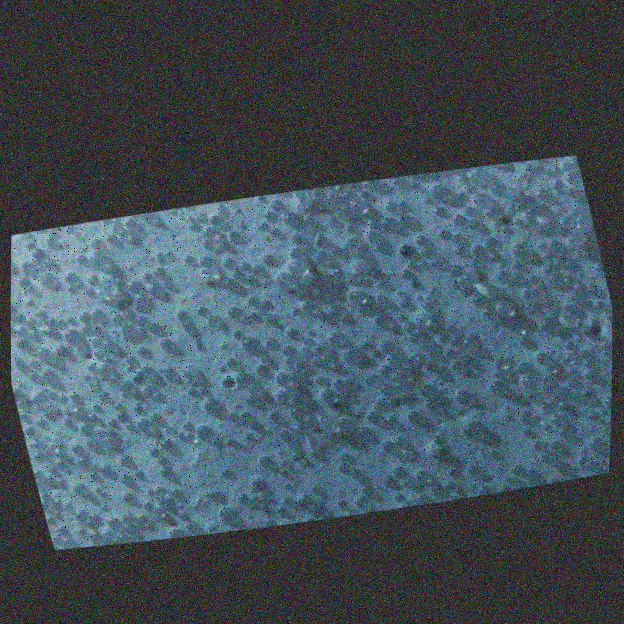GrassBeadSeg: (63, 173, 466, 532), (87, 162, 570, 446), (77, 181, 562, 454), (180, 189, 570, 521), (122, 192, 511, 522), (27, 218, 477, 503), (59, 238, 559, 492), (125, 214, 572, 496), (109, 219, 502, 527), (62, 212, 535, 466), (114, 161, 566, 425), (85, 191, 487, 466), (75, 271, 504, 519), (124, 217, 554, 463), (80, 244, 464, 519), (47, 217, 521, 432), (199, 179, 559, 448), (98, 189, 547, 399), (64, 228, 449, 472), (72, 251, 542, 450), (94, 272, 548, 478), (81, 214, 410, 493), (57, 188, 322, 532), (50, 288, 528, 473), (125, 172, 578, 363), (91, 238, 558, 422), (143, 206, 494, 430), (36, 308, 598, 446), (47, 251, 555, 403), (265, 226, 611, 444), (47, 197, 420, 397), (121, 245, 433, 483), (104, 183, 447, 399), (220, 243, 483, 519), (87, 190, 465, 371), (46, 236, 528, 372), (94, 257, 455, 438), (43, 330, 441, 493), (244, 214, 464, 504), (121, 351, 547, 500), (134, 306, 495, 477), (98, 312, 413, 506), (126, 301, 429, 502), (188, 237, 497, 429), (78, 335, 530, 466), (120, 274, 550, 409), (73, 211, 274, 491), (79, 189, 503, 321), (67, 218, 378, 396), (281, 247, 531, 466), (262, 168, 531, 371), (343, 241, 600, 450), (289, 247, 569, 435), (118, 274, 575, 389), (21, 315, 282, 513), (43, 257, 287, 467), (250, 219, 471, 441), (134, 206, 534, 326), (230, 279, 455, 492), (86, 270, 523, 378), (119, 228, 351, 430), (305, 194, 519, 408), (361, 188, 543, 437), (92, 336, 372, 494), (225, 207, 497, 368), (76, 253, 429, 369), (249, 310, 594, 428), (390, 210, 560, 448), (63, 264, 263, 466), (223, 278, 404, 501), (319, 228, 496, 456), (129, 280, 316, 492), (240, 261, 576, 376), (143, 341, 371, 508), (71, 273, 265, 464), (133, 286, 326, 477), (311, 271, 476, 491), (153, 266, 362, 437), (167, 289, 355, 476), (303, 218, 573, 348), (98, 361, 565, 436), (86, 212, 235, 445), (196, 196, 464, 323), (249, 301, 510, 431), (384, 200, 571, 376), (291, 242, 527, 378), (70, 210, 238, 400), (320, 264, 552, 399), (282, 343, 523, 472), (36, 263, 574, 319), (178, 259, 523, 343), (71, 326, 299, 451), (89, 228, 197, 478), (105, 187, 574, 243), (120, 343, 336, 463), (214, 215, 313, 475), (127, 316, 295, 464), (106, 440, 393, 526), (11, 255, 169, 411), (86, 320, 291, 439), (226, 306, 464, 402), (69, 210, 271, 323), (381, 205, 473, 449), (109, 378, 576, 426), (111, 236, 560, 285), (263, 166, 559, 240), (263, 253, 547, 330), (32, 248, 406, 306), (63, 283, 419, 343), (70, 400, 411, 462), (144, 257, 357, 354), (439, 256, 549, 443), (270, 227, 402, 378), (94, 434, 443, 491), (232, 362, 393, 484), (310, 385, 574, 458), (407, 351, 577, 462), (390, 292, 486, 484), (359, 211, 427, 481), (155, 251, 533, 299), (309, 426, 533, 505), (86, 286, 369, 348), (15, 285, 199, 378), (328, 303, 529, 388), (161, 336, 294, 463), (124, 295, 259, 420), (149, 274, 250, 439), (240, 373, 594, 420), (200, 305, 456, 369), (43, 410, 173, 535), (125, 357, 592, 391), (297, 397, 438, 507), (313, 250, 436, 370), (366, 299, 485, 421), (259, 221, 344, 390), (473, 346, 586, 473), (48, 385, 207, 473), (393, 208, 444, 476), (137, 382, 434, 428), (96, 410, 598, 437), (231, 270, 335, 397), (196, 389, 471, 437), (240, 199, 403, 279), (176, 309, 338, 388), (233, 231, 350, 337), (27, 209, 174, 293), (532, 174, 572, 479), (292, 233, 415, 330), (331, 415, 506, 479), (246, 419, 603, 449), (202, 212, 309, 311), (281, 340, 527, 383), (298, 346, 405, 444), (296, 313, 360, 476), (160, 405, 306, 476), (394, 158, 578, 214), (91, 297, 554, 319), (41, 271, 171, 348), (291, 211, 419, 288), (363, 374, 457, 476), (428, 303, 609, 355), (275, 312, 406, 383), (429, 285, 556, 358), (183, 253, 463, 285), (114, 277, 152, 510), (241, 335, 333, 431), (31, 243, 172, 305), (14, 228, 78, 362), (338, 233, 373, 471), (475, 345, 537, 478), (136, 468, 283, 522), (272, 410, 368, 492), (196, 306, 233, 518), (301, 300, 350, 459), (43, 312, 123, 409), (34, 390, 142, 461), (417, 356, 467, 504), (144, 367, 408, 395), (15, 308, 122, 377), (345, 223, 388, 394), (19, 276, 325, 300), (429, 303, 483, 437), (455, 359, 518, 473), (527, 311, 611, 396), (419, 269, 508, 348), (438, 273, 537, 341), (349, 198, 379, 422), (377, 240, 532, 282), (406, 374, 540, 422), (314, 188, 408, 256), (505, 186, 568, 287), (137, 288, 196, 394), (126, 321, 157, 521), (271, 182, 504, 208), (547, 373, 608, 472), (511, 340, 611, 400), (471, 168, 545, 248), (236, 370, 504, 392), (91, 403, 308, 430), (272, 207, 426, 244), (194, 394, 246, 502), (149, 214, 219, 294), (258, 194, 358, 250), (539, 161, 581, 293), (299, 206, 441, 243), (229, 232, 334, 282), (457, 342, 611, 376), (344, 436, 480, 474), (506, 306, 542, 449), (121, 337, 199, 403), (203, 405, 265, 488), (516, 270, 598, 331), (24, 392, 138, 435), (143, 230, 240, 280), (113, 226, 142, 385), (504, 281, 527, 479), (365, 230, 410, 330), (207, 271, 295, 322), (395, 352, 503, 393), (271, 498, 421, 527), (339, 382, 394, 459), (126, 364, 183, 438), (255, 343, 387, 374), (195, 192, 336, 221), (40, 344, 91, 422), (548, 238, 603, 310), (344, 293, 387, 385), (272, 312, 384, 347), (345, 347, 449, 384), (197, 487, 355, 511), (93, 485, 163, 539), (334, 178, 373, 273), (25, 267, 228, 285), (199, 424, 256, 488), (170, 393, 205, 496), (90, 241, 341, 255), (410, 162, 533, 190), (176, 370, 224, 441), (15, 236, 55, 321), (89, 511, 197, 541), (136, 345, 454, 355), (132, 358, 174, 432), (303, 219, 363, 270), (323, 293, 435, 320), (29, 258, 106, 297), (188, 221, 248, 271), (178, 494, 293, 520), (203, 229, 254, 286), (285, 432, 331, 490), (378, 290, 579, 303), (379, 363, 433, 411), (100, 503, 195, 529), (217, 200, 406, 213), (208, 468, 289, 498), (550, 369, 595, 422), (228, 207, 239, 421), (292, 345, 312, 460), (170, 209, 228, 247), (265, 335, 394, 352), (450, 183, 473, 274), (205, 397, 301, 418), (96, 220, 122, 296), (85, 486, 158, 513), (398, 244, 435, 295), (276, 499, 400, 514), (318, 413, 421, 431), (380, 208, 469, 228), (544, 219, 587, 259), (11, 306, 65, 337), (275, 243, 312, 288), (31, 356, 112, 376), (170, 493, 207, 536), (548, 423, 586, 464), (292, 306, 325, 353), (531, 389, 578, 422), (57, 428, 112, 455), (218, 364, 256, 403), (542, 168, 563, 237), (408, 187, 417, 341), (32, 426, 93, 448), (368, 373, 426, 395), (160, 420, 188, 465), (44, 466, 97, 487), (436, 257, 464, 294), (580, 347, 589, 462), (327, 289, 365, 316), (33, 462, 96, 478), (155, 281, 170, 347), (326, 356, 349, 397), (18, 399, 43, 436), (314, 374, 351, 399), (112, 401, 138, 436), (120, 364, 149, 395), (324, 267, 382, 282), (247, 354, 271, 390), (125, 511, 168, 531), (363, 179, 424, 193), (307, 328, 329, 365), (510, 383, 552, 401), (296, 358, 323, 384), (532, 284, 595, 295), (382, 312, 395, 365), (398, 268, 411, 320), (91, 324, 115, 351), (327, 197, 351, 224), (31, 319, 48, 356), (99, 463, 131, 482), (429, 256, 461, 275), (11, 316, 36, 340), (123, 309, 143, 336), (80, 421, 133, 431), (55, 318, 89, 333), (135, 294, 147, 334), (215, 494, 258, 505), (587, 262, 602, 293), (33, 390, 55, 411), (68, 527, 96, 543), (465, 166, 482, 192), (163, 366, 199, 378), (557, 219, 581, 237), (309, 312, 329, 333), (124, 405, 142, 428), (21, 240, 35, 268), (43, 413, 57, 441), (256, 502, 273, 525), (88, 490, 108, 509), (429, 286, 468, 295), (46, 515, 60, 540), (261, 355, 295, 365), (41, 473, 53, 500), (17, 381, 25, 419), (103, 526, 128, 538), (46, 495, 67, 509), (530, 414, 548, 430), (451, 334, 471, 348), (103, 531, 127, 542), (19, 325, 39, 338), (285, 356, 306, 368), (541, 373, 554, 392), (53, 502, 72, 515), (246, 381, 257, 403), (538, 241, 551, 259), (462, 338, 471, 363), (327, 330, 343, 344), (80, 323, 100, 334), (52, 533, 71, 544), (152, 496, 165, 512), (572, 389, 590, 399), (27, 360, 36, 379), (93, 348, 110, 358), (398, 296, 411, 308), (47, 443, 59, 455), (85, 411, 96, 423), (222, 257, 233, 268), (352, 248, 362, 258), (56, 458, 65, 467), (535, 351, 543, 361), (116, 300, 125, 308), (165, 252, 170, 257)
